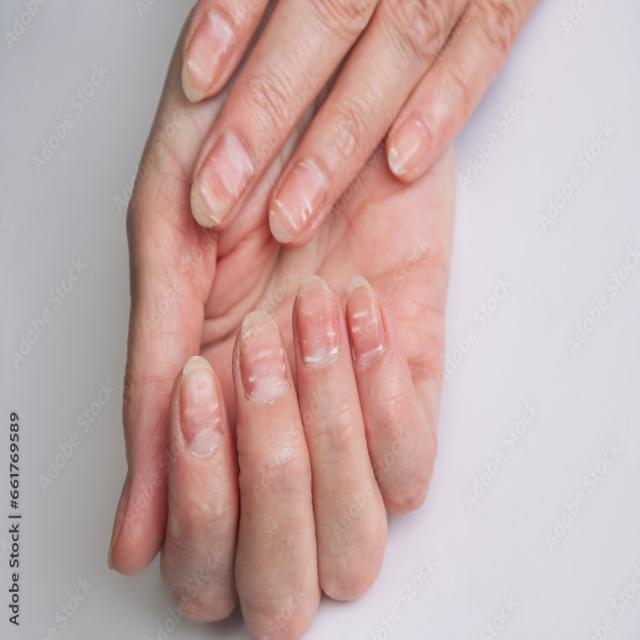Fingernail: (190, 133, 253, 228), (181, 6, 238, 102), (269, 159, 331, 245), (239, 311, 288, 400), (179, 356, 222, 457), (296, 277, 339, 364), (346, 275, 385, 362), (387, 116, 431, 179)
